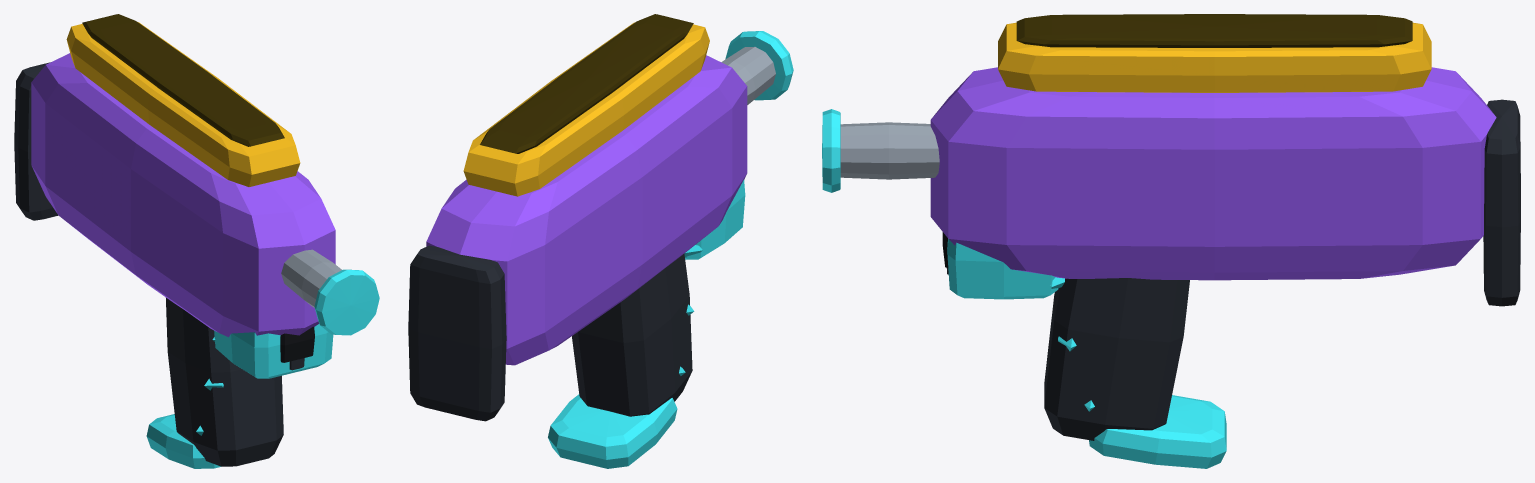
File: g-smg-3.glb
The picture shows the model from 3 angles, left to right: view 1: azimuth 30°, elevation 25°; view 2: azimuth 150°, elevation 25°; view 3: azimuth 270°, elevation 25°; orthographic projection. The views are drawn at different scales.
Parts seen in each view (by area): view 1: gun; view 2: gun; view 3: gun.
Boxes of the visible parts, box(x1,y1,x2,y2) form: gun: box(14, 14, 379, 468); gun: box(408, 14, 793, 468); gun: box(822, 14, 1520, 468).
Bounding box in the file's own units: 0.1483 × 0.4894 × 0.7297.
